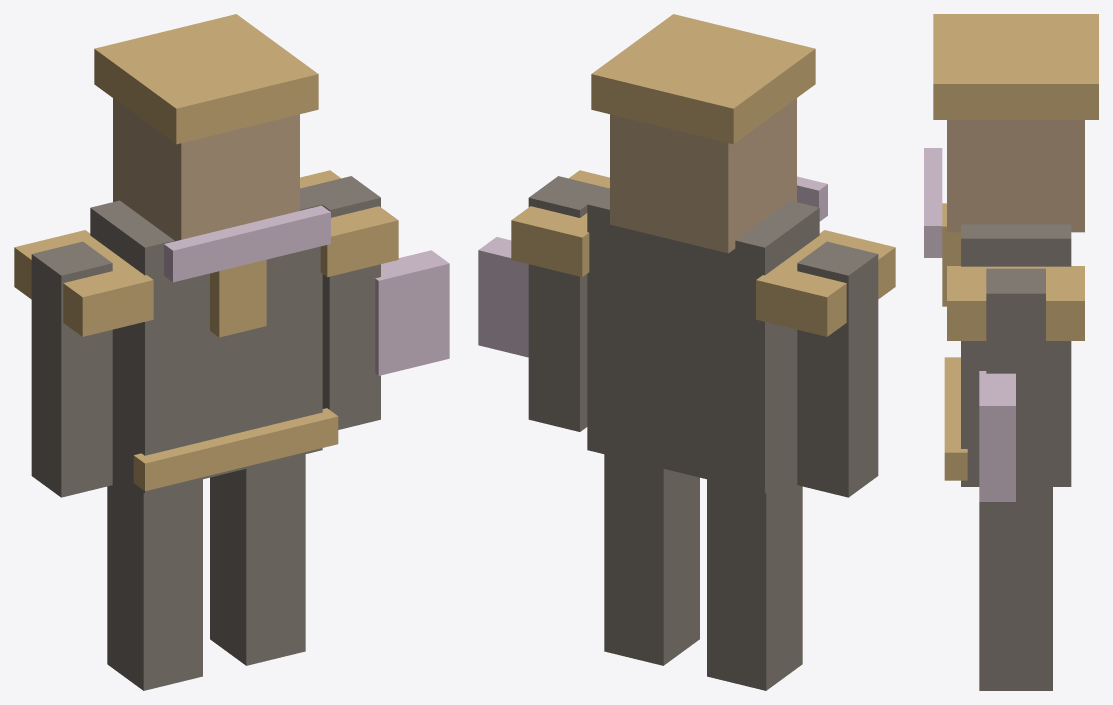
Rendered from 15_asha_rootborne_pilgrim_of_cadence.glb.
3 renders of one model, left to right at view 1: azimuth 30°, elevation 25°; view 2: azimuth 150°, elevation 25°; view 3: azimuth 270°, elevation 25°, orthographic.
Visible parts, largest first — view 1: Asha Rootborne, Pilgrim of Cadence; view 2: Asha Rootborne, Pilgrim of Cadence; view 3: Asha Rootborne, Pilgrim of Cadence.
Boxes of the visible parts, x1,y1,x2,y2 form: Asha Rootborne, Pilgrim of Cadence: (14,14,449,690); Asha Rootborne, Pilgrim of Cadence: (478,14,895,690); Asha Rootborne, Pilgrim of Cadence: (924,14,1098,690).
Bounding box in the file's own units: 0.9848 × 1.46 × 0.3838.
